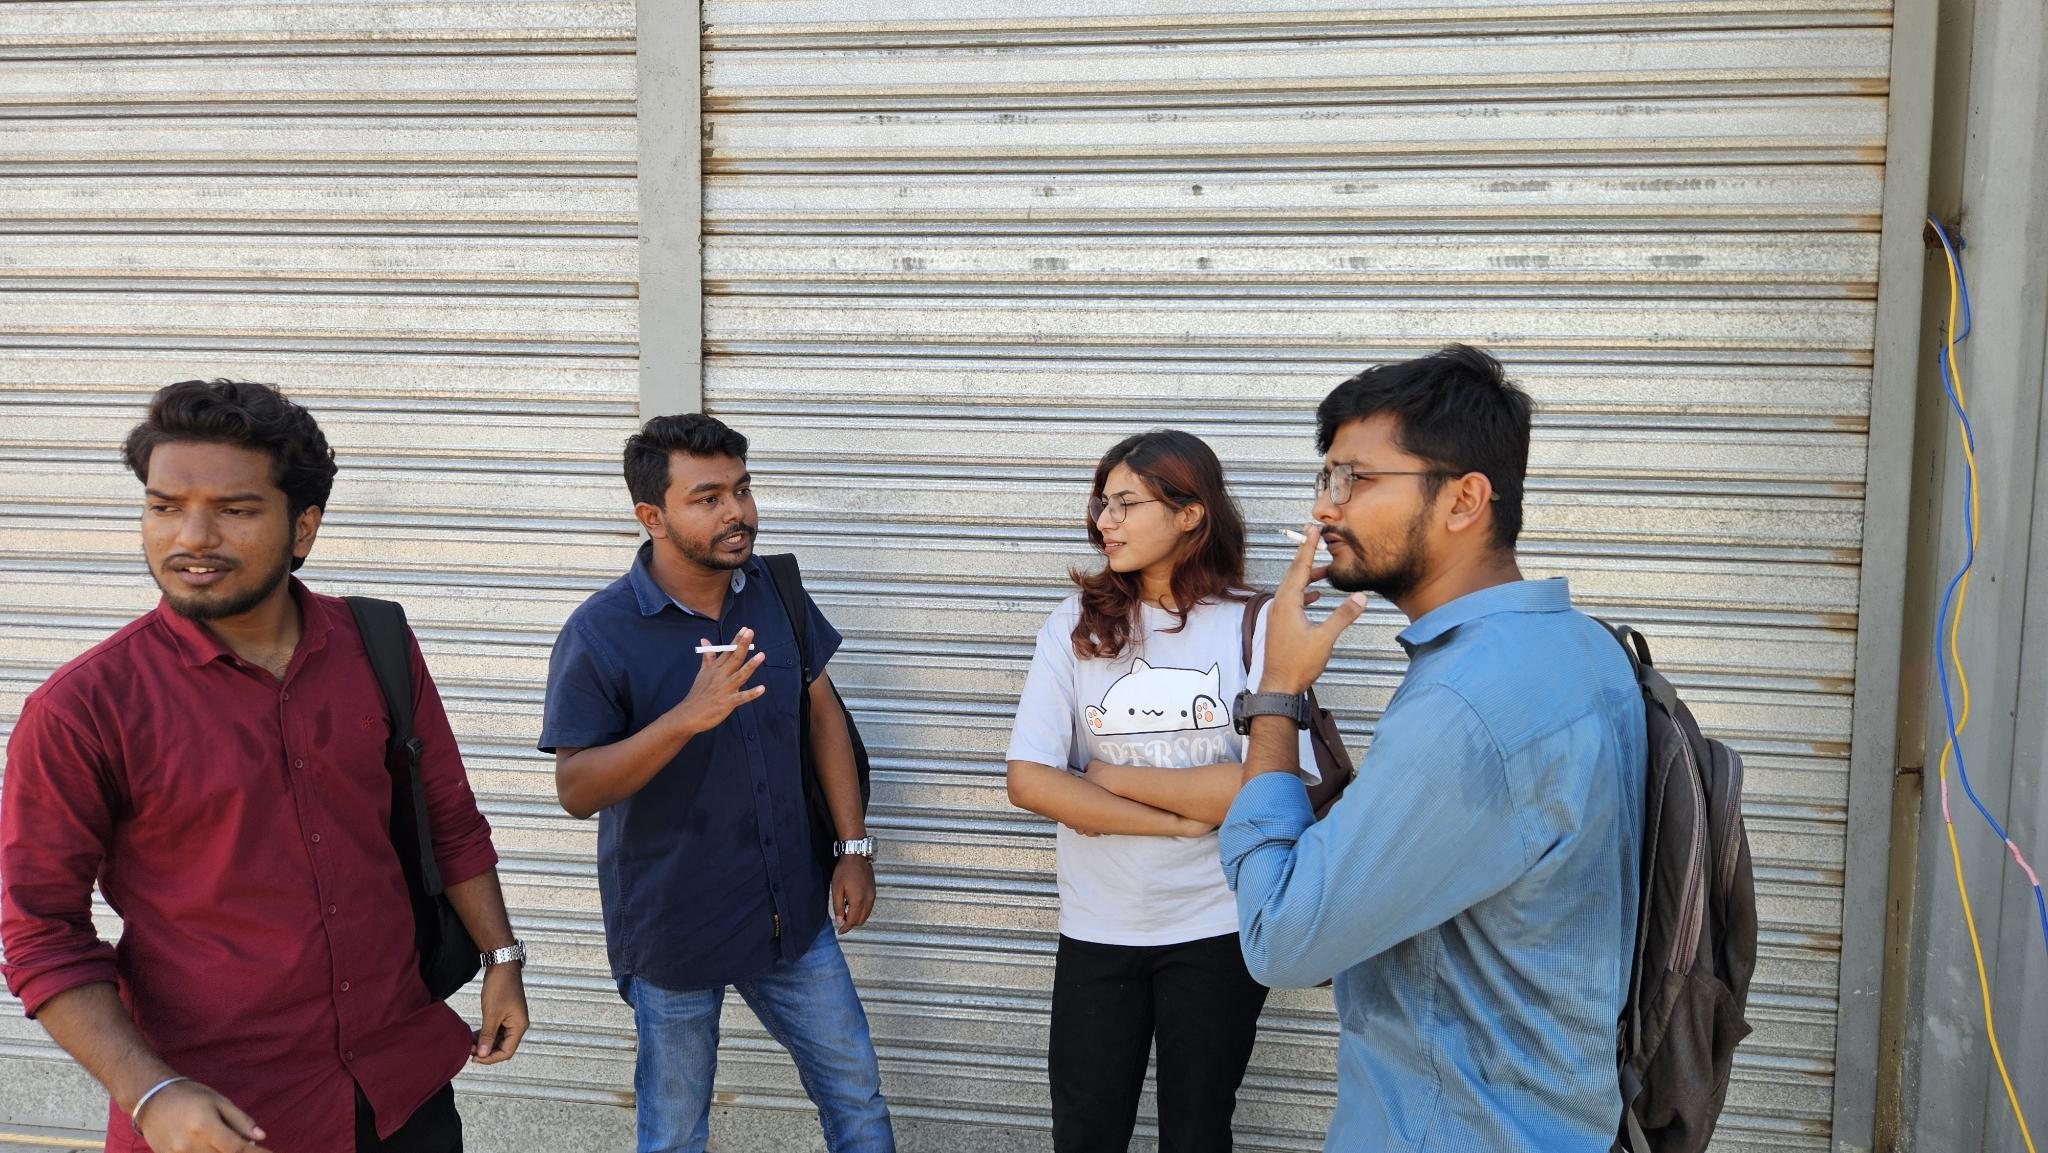cigarette: (1277, 527, 1329, 553), (692, 641, 755, 657)
nonSmoker: (0, 380, 527, 1153), (1007, 432, 1349, 1153)
smoker: (1218, 343, 1758, 1153), (537, 412, 897, 1153)
